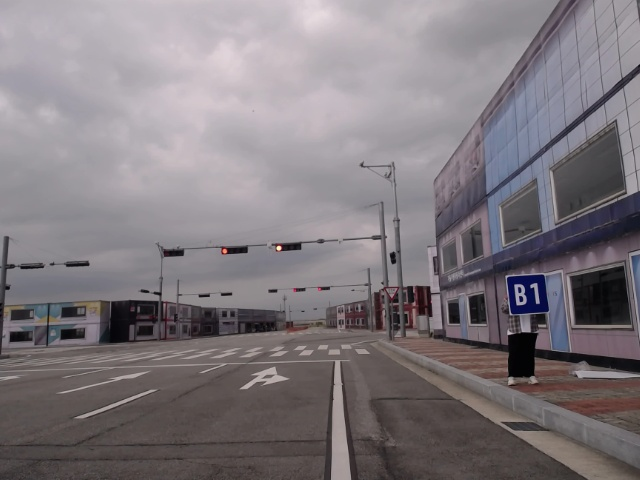delivery_b1: (506, 274, 550, 315)
red_4: (221, 246, 248, 255), (275, 243, 301, 251), (292, 288, 306, 292), (318, 287, 331, 291)
